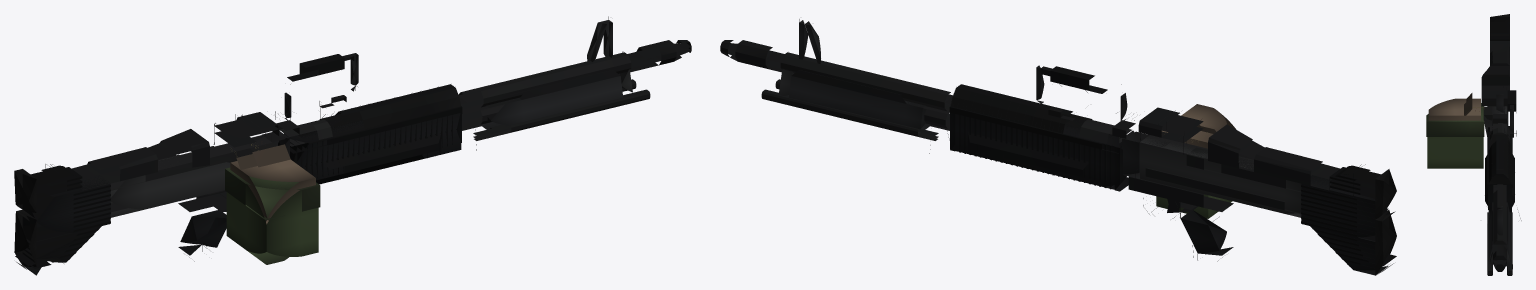
The picture shows the model from 3 angles, left to right: view 1: azimuth 30°, elevation 25°; view 2: azimuth 150°, elevation 25°; view 3: azimuth 270°, elevation 25°; orthographic projection. The views are drawn at different scales.
Parts seen in each view (by area): view 1: ammoModel0, gunModel35, gunModel0, gunModel59, gunModel18, gunModel36, gunModel52, gunModel34, ammoModel1, ammoModel3, gunModel83, gunModel5 (+22 smaller); view 2: gunModel0, gunModel59, gunModel35, gunModel18, gunModel39, gunModel52, gunModel34, gunModel81, gunModel3, gunModel5, gunModel19, gunModel33 (+21 smaller); view 3: ammoModel0, ammoModel3, ammoModel1, gunModel34, gunModel52, gunModel253, gunModel59, gunModel33, gunModel256, gunModel38, gunModel254, gunModel104 (+25 smaller).
Boxes of the visible parts, x1,y1,x2,y2 form: ammoModel0: [226, 168, 318, 264]; gunModel35: [279, 113, 461, 180]; gunModel0: [110, 135, 261, 217]; gunModel59: [480, 76, 623, 133]; gunModel18: [23, 175, 110, 241]; gunModel36: [316, 133, 441, 184]; gunModel52: [458, 52, 630, 103]; gunModel34: [319, 84, 458, 127]; ammoModel1: [230, 159, 315, 224]; ammoModel3: [225, 167, 320, 220]; gunModel83: [110, 136, 271, 189]; gunModel5: [178, 210, 226, 255]; gunModel0: [1140, 136, 1301, 217]; gunModel59: [788, 76, 931, 133]; gunModel35: [951, 114, 1128, 190]; gunModel18: [1301, 175, 1388, 241]; gunModel39: [968, 132, 1105, 187]; gunModel52: [781, 52, 952, 103]; gunModel34: [953, 84, 1092, 127]; gunModel81: [1145, 167, 1300, 214]; gunModel3: [1128, 176, 1233, 211]; gunModel5: [1180, 210, 1233, 255]; gunModel19: [1310, 226, 1388, 275]; gunModel33: [951, 97, 1076, 133]; ammoModel0: [1427, 105, 1483, 168]; ammoModel3: [1426, 103, 1484, 136]; ammoModel1: [1428, 98, 1480, 120]; gunModel34: [1491, 134, 1508, 178]; gunModel52: [1493, 184, 1506, 244]; gunModel253: [1490, 41, 1509, 65]; gunModel59: [1488, 203, 1511, 261]; gunModel33: [1488, 139, 1511, 184]; gunModel256: [1481, 85, 1509, 100]; gunModel38: [1488, 182, 1511, 212]; gunModel254: [1482, 66, 1509, 77]; gunModel104: [1490, 22, 1509, 35].
Bounding box in the file's own units: 38.55 × 8.8 × 6.72.
